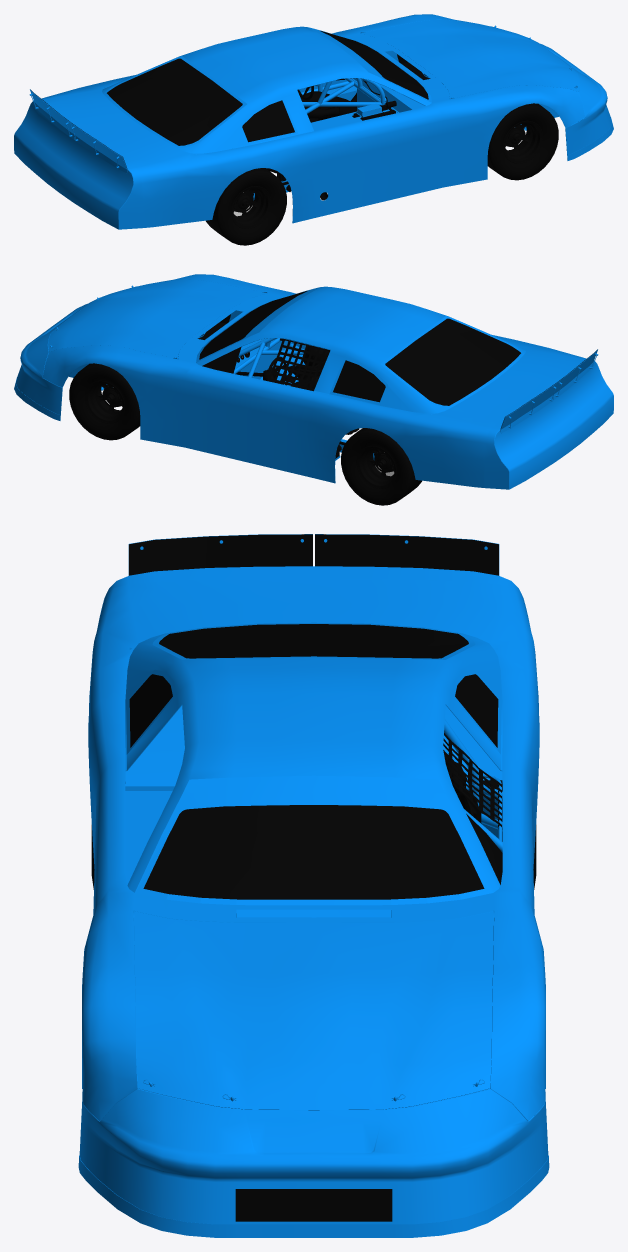
File: veh-stockcar.glb
3 views of the same model, one above another, from view 1: azimuth 30°, elevation 25°; view 2: azimuth 150°, elevation 25°; view 3: azimuth 270°, elevation 25° (orthographic). The views are drawn at different scales.
Visible parts, largest first — view 1: latemodel_body-material.007, latemodel_body-material.011, latemodel_body-material.005, LatemodelFBXASC045GlassSG-material.004, latemodel_body-material.006, LatemodelFBXASC045Wheel_FRSG1-material, LatemodelFBXASC045Wheel_FRSG1-material.002, latemodel_body-material.010, LatemodelFBXASC045GlassSG-material.003, LatemodelFBXASC045GlassSG-material.001, latemodel_rim-material.001, latemodel_rim-material.003 (+5 smaller); view 2: latemodel_body-material.007, latemodel_body-material.011, latemodel_body-material.005, LatemodelFBXASC045GlassSG-material.004, LatemodelFBXASC045Wheel_FRSG1-material.001, LatemodelFBXASC045Wheel_FRSG1-material.003, latemodel_body-material.010, latemodel_body-material.006, LatemodelFBXASC045ChassisSG1-material.008, LatemodelFBXASC045GlassSG-material.003, LatemodelFBXASC045GlassSG-material.002, latemodel_rim-material.002 (+7 smaller); view 3: latemodel_body-material.007, latemodel_body-material.011, latemodel_body-material.010, LatemodelFBXASC045GlassSG-material.003, LatemodelFBXASC045GlassSG-material.004, latemodel_body-material.006, latemodel_plastic-material.001, latemodel_plastic-material, LatemodelFBXASC045NoseScreenSG-material, latemodel_body-material.005, LatemodelFBXASC045ChassisSG1-material.008, LatemodelFBXASC045GlassSG-material.002 (+1 smaller).
Boxes of the visible parts, x1,y1,x2,y2 form: latemodel_body-material.007: [41, 14, 585, 227]; latemodel_body-material.011: [360, 19, 579, 98]; latemodel_body-material.005: [14, 100, 143, 229]; LatemodelFBXASC045GlassSG-material.004: [107, 58, 242, 145]; latemodel_body-material.006: [253, 78, 526, 200]; LatemodelFBXASC045Wheel_FRSG1-material: [206, 168, 286, 245]; LatemodelFBXASC045Wheel_FRSG1-material.002: [487, 103, 558, 180]; latemodel_body-material.010: [491, 25, 613, 160]; LatemodelFBXASC045GlassSG-material.003: [320, 31, 428, 99]; LatemodelFBXASC045GlassSG-material.001: [242, 100, 294, 142]; latemodel_rim-material.001: [503, 120, 542, 163]; latemodel_rim-material.003: [231, 186, 271, 228]; latemodel_body-material.007: [42, 274, 586, 487]; latemodel_body-material.011: [48, 279, 267, 358]; latemodel_body-material.005: [484, 360, 613, 489]; LatemodelFBXASC045GlassSG-material.004: [385, 318, 520, 405]; LatemodelFBXASC045Wheel_FRSG1-material.001: [341, 428, 421, 505]; LatemodelFBXASC045Wheel_FRSG1-material.003: [69, 363, 140, 440]; latemodel_body-material.010: [14, 285, 136, 420]; latemodel_body-material.006: [101, 338, 374, 460]; LatemodelFBXASC045ChassisSG1-material.008: [267, 338, 326, 390]; LatemodelFBXASC045GlassSG-material.003: [199, 291, 307, 359]; LatemodelFBXASC045GlassSG-material.002: [333, 360, 385, 402]; latemodel_rim-material.002: [85, 380, 124, 423]; latemodel_body-material.007: [82, 579, 545, 1121]; latemodel_body-material.011: [133, 910, 494, 1110]; latemodel_body-material.010: [78, 1079, 549, 1237]; LatemodelFBXASC045GlassSG-material.003: [143, 805, 484, 899]; LatemodelFBXASC045GlassSG-material.004: [159, 624, 468, 658]; latemodel_body-material.006: [125, 705, 502, 884]; latemodel_plastic-material.001: [315, 534, 498, 575]; latemodel_plastic-material: [129, 534, 312, 575]; LatemodelFBXASC045NoseScreenSG-material: [235, 1189, 392, 1221]; latemodel_body-material.005: [102, 566, 525, 604]; LatemodelFBXASC045ChassisSG1-material.008: [443, 733, 501, 828]; LatemodelFBXASC045GlassSG-material.002: [455, 674, 498, 747].
Size of the model in its own units: 5.14 by 1.21 by 2.
